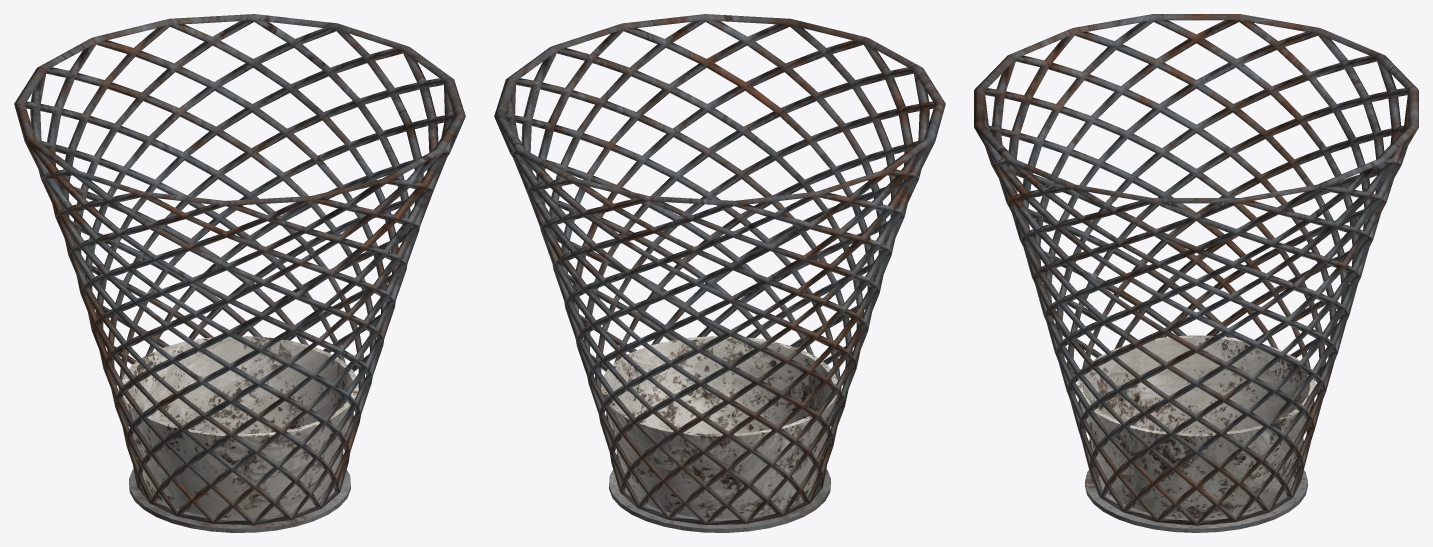
File: Bin.fbx
3 renders of one model, left to right at view 1: azimuth 30°, elevation 25°; view 2: azimuth 150°, elevation 25°; view 3: azimuth 270°, elevation 25°, orthographic.
Parts seen in each view (by area): view 1: Bin; view 2: Bin; view 3: Bin.
Part boxes in pixels (x1=…): Bin: x1=14, y1=14, x2=465, y2=532; Bin: x1=494, y1=14, x2=945, y2=532; Bin: x1=974, y1=14, x2=1418, y2=532.
Size of the model in its own units: 97.29 by 91.63 by 97.29.
